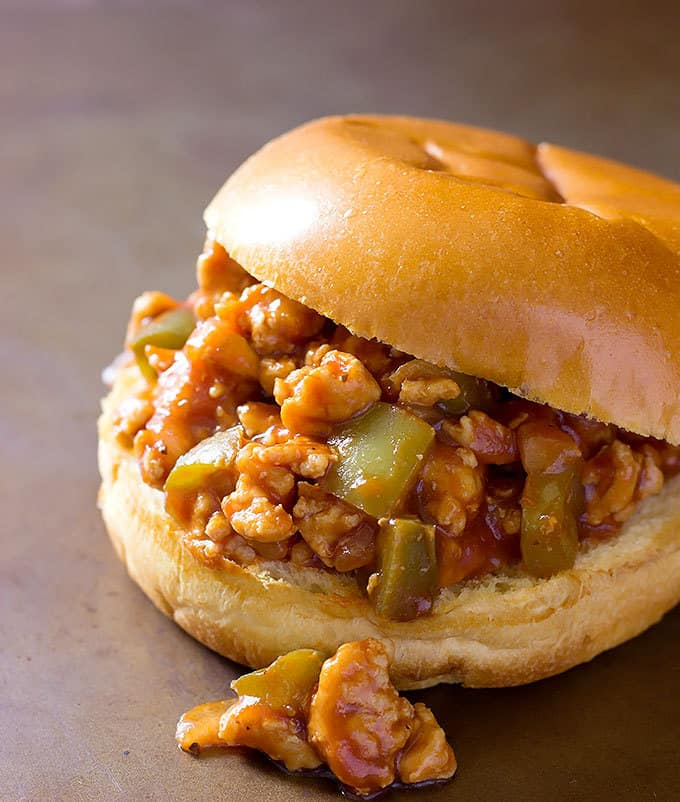hamburger_buns: (146, 93, 680, 404)
